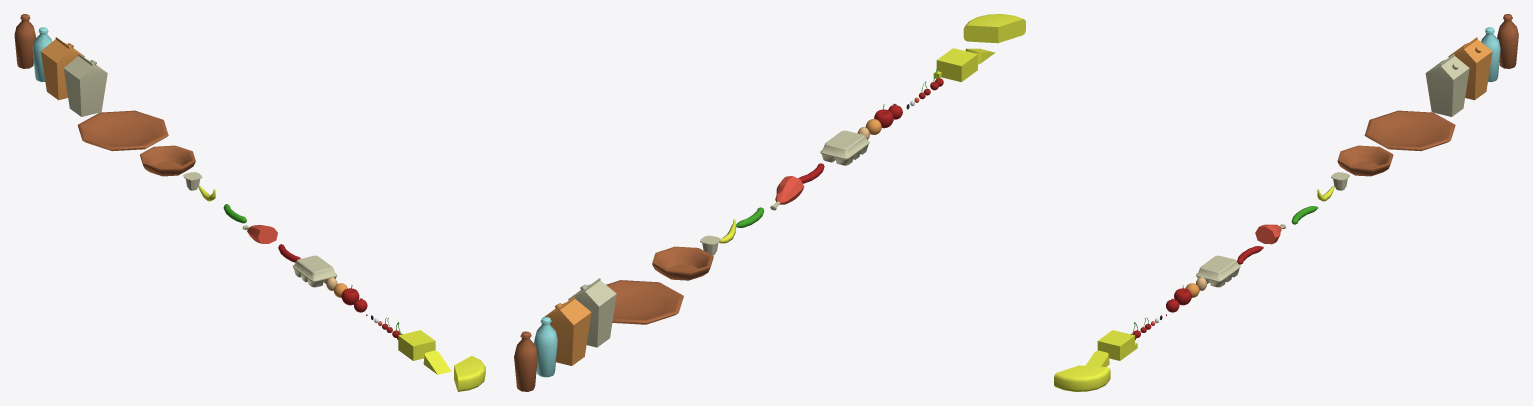
File: SM_CheeseRound2.0.fbx
3 renders of one model, left to right at view 1: azimuth 30°, elevation 25°; view 2: azimuth 150°, elevation 25°; view 3: azimuth 330°, elevation 25°, orthographic. The views are drawn at different scales.
Parts seen in each view (by area): view 1: SM_Plate, SM_Milk, SM_Juice, SM_Bowl, SM_Eggbox, SM_Cola, SM_CheeseRound, SM_CheeseBlock, SM_Water, SM_Ham, SM_CheeseWedge; view 2: SM_Plate, SM_Juice, SM_Milk, SM_Bowl, SM_CheeseRound, SM_Eggbox, SM_Cola, SM_Water, SM_CheeseBlock, SM_Ham; view 3: SM_Plate, SM_Milk, SM_Juice, SM_Bowl, SM_CheeseRound, SM_Eggbox, SM_Cola, SM_CheeseBlock, SM_Water, SM_Ham.
Part boxes in pixels (x1=…): SM_Plate: x1=77, y1=110, x2=168, y2=151; SM_Milk: x1=63, y1=54, x2=107, y2=116; SM_Juice: x1=40, y1=37, x2=84, y2=100; SM_Bowl: x1=140, y1=145, x2=195, y2=176; SM_Eggbox: x1=292, y1=255, x2=337, y2=287; SM_Cola: x1=14, y1=14, x2=36, y2=68; SM_CheeseRound: x1=454, y1=356, x2=485, y2=391; SM_CheeseBlock: x1=398, y1=330, x2=435, y2=360; SM_Water: x1=32, y1=27, x2=52, y2=82; SM_Ham: x1=242, y1=225, x2=277, y2=243; SM_CheeseWedge: x1=423, y1=350, x2=451, y2=374; SM_Plate: x1=606, y1=280, x2=683, y2=324; SM_Juice: x1=544, y1=296, x2=591, y2=365; SM_Milk: x1=568, y1=278, x2=616, y2=347; SM_Bowl: x1=652, y1=246, x2=713, y2=280; SM_CheeseRound: x1=963, y1=14, x2=1025, y2=43; SM_Eggbox: x1=820, y1=130, x2=869, y2=165; SM_Cola: x1=514, y1=331, x2=537, y2=391; SM_Water: x1=534, y1=317, x2=557, y2=377; SM_CheeseBlock: x1=936, y1=48, x2=977, y2=82; SM_Ham: x1=770, y1=176, x2=804, y2=210; SM_Plate: x1=1364, y1=110, x2=1455, y2=150; SM_Milk: x1=1425, y1=54, x2=1469, y2=116; SM_Juice: x1=1448, y1=37, x2=1492, y2=100; SM_Bowl: x1=1337, y1=145, x2=1393, y2=176; SM_CheeseRound: x1=1054, y1=365, x2=1110, y2=391; SM_Eggbox: x1=1196, y1=255, x2=1240, y2=287; SM_Cola: x1=1497, y1=14, x2=1518, y2=68; SM_CheeseBlock: x1=1097, y1=330, x2=1134, y2=360; SM_Water: x1=1481, y1=27, x2=1500, y2=82; SM_Ham: x1=1255, y1=224, x2=1285, y2=244.
Size of the model in its own units: 809 by 498 by 7730.
